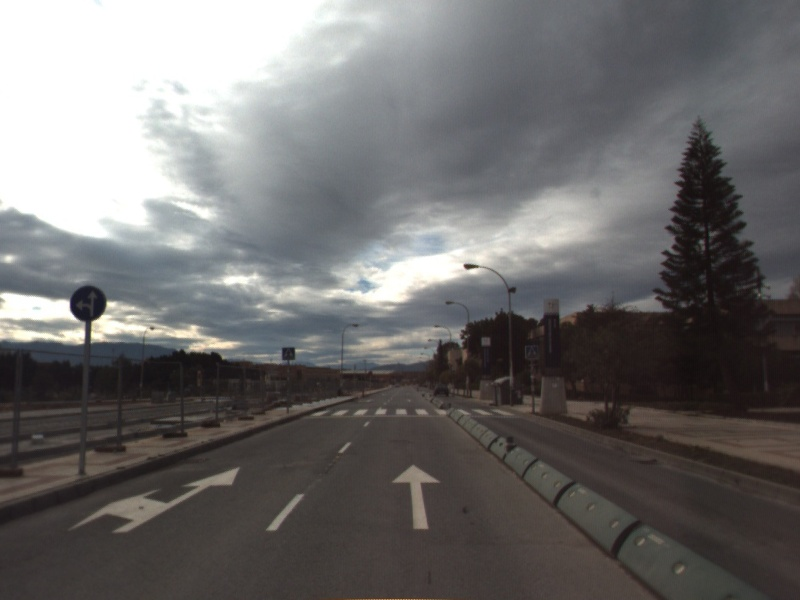STRAIGHT: (390, 462, 443, 531)
STRAIGHT_LEFT: (65, 465, 243, 535)
